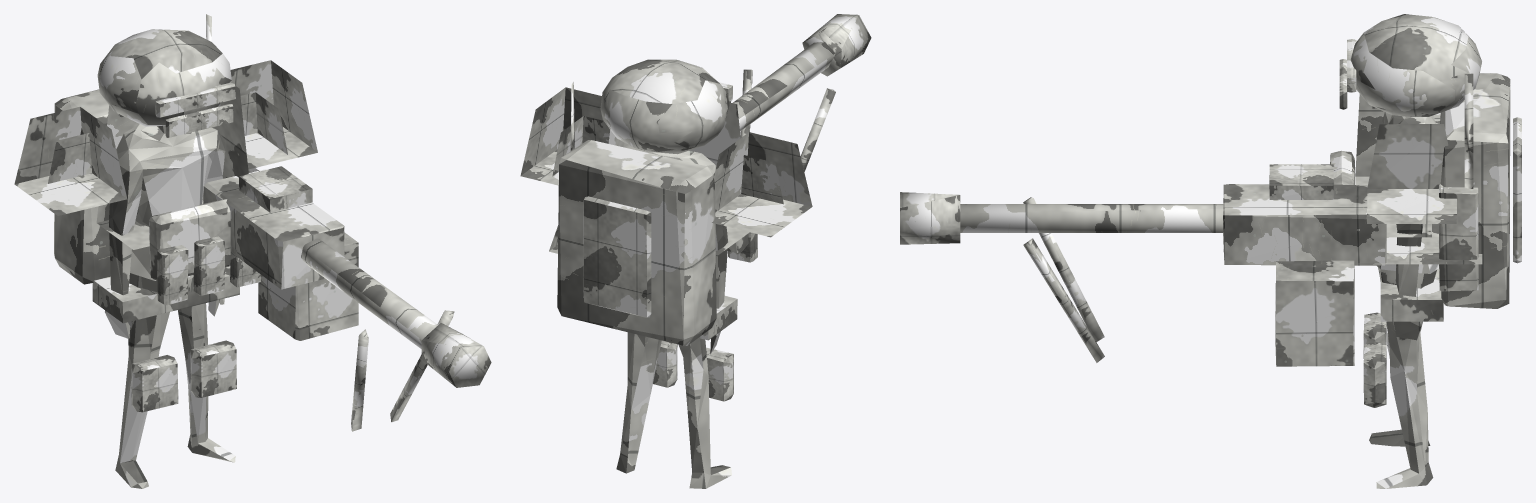
Rendered from rifleman_lod.glb.
3 renders of one model, left to right at view 1: azimuth 30°, elevation 25°; view 2: azimuth 150°, elevation 25°; view 3: azimuth 270°, elevation 25°, orthographic. The views are drawn at different scales.
Visible parts, largest first — view 1: rifleman_lod_team_primary; view 2: rifleman_lod_team_primary; view 3: rifleman_lod_team_primary.
Boxes of the visible parts, box(x1,y1,x2,y2) form: rifleman_lod_team_primary: box(14, 14, 491, 488); rifleman_lod_team_primary: box(520, 14, 871, 488); rifleman_lod_team_primary: box(900, 14, 1521, 488).
Bounding box in the file's own units: 0.9287 × 1.45 × 1.86.
1 material, 1 textured.
